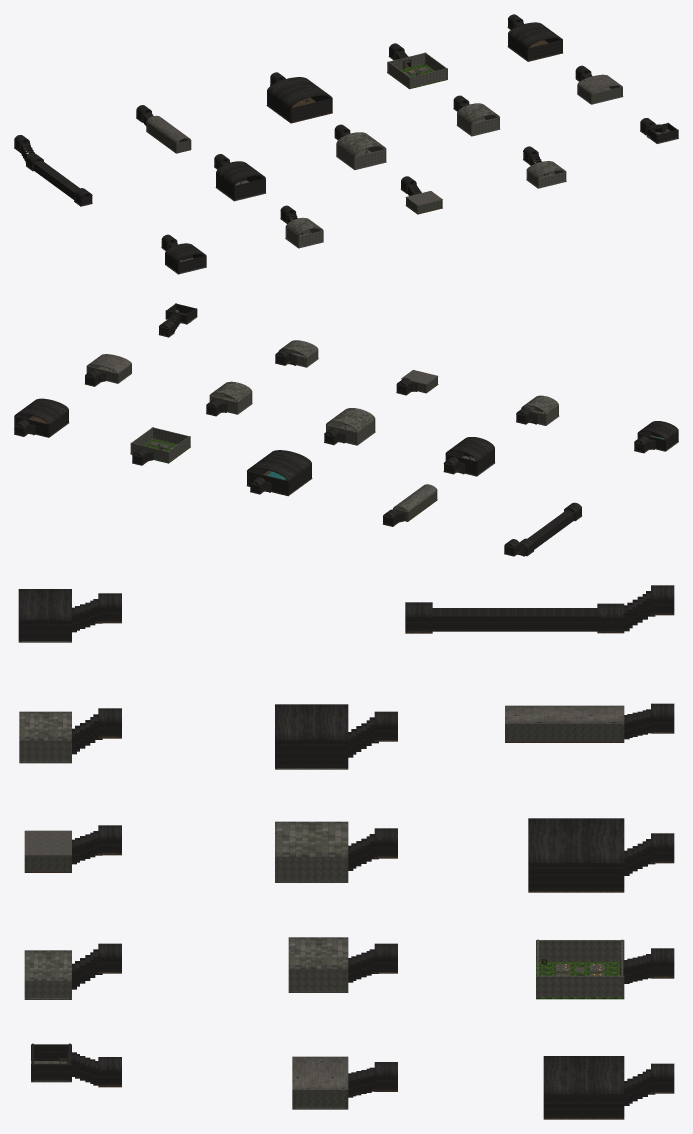
Rendered from world.glb.
3 renders of one model, top to bottom at view 1: azimuth 30°, elevation 25°; view 2: azimuth 150°, elevation 25°; view 3: azimuth 270°, elevation 25°, orthographic. The views are drawn at different scales.
Parts seen in each view (by area): view 1: Build_delta-paddy-garden_ashlar, Roof_delta-lotus-hollow_cliff_rock, Build_delta-lotus-hollow_cliff_rock, Build_delta-shrine-well_cliff_rock, Roof_delta-crab-pit_cliff_rock, Build_delta-crab-pit_cliff_rock, Build_delta-bund-run_cliff_rock, Roof_delta-bund-run_cliff_rock, Roof_delta-shrine-well_cliff_rock, Build_delta-waystone_ashlar, Roof_delta-waystone_ashlar, Build_delta-temple-spring_cliff_rock (+10 smaller); view 2: Build_delta-paddy-garden_ashlar, Roof_delta-lotus-hollow_cliff_rock, Build_delta-lotus-hollow_cliff_rock, Roof_delta-crab-pit_cliff_rock, Build_delta-shrine-well_cliff_rock, Build_delta-crab-pit_cliff_rock, Roof_delta-shrine-well_cliff_rock, Build_delta-bund-run_cliff_rock, Roof_delta-bund-run_cliff_rock, Roof_delta-waystone_ashlar, Build_delta-banyan-eyrie_cliff_rock, Build_delta-temple-spring_cliff_rock (+6 smaller); view 3: Roof_delta-lotus-hollow_cliff_rock, Build_delta-bund-run_cliff_rock, Build_delta-paddy-garden_ashlar, Build_delta-lotus-hollow_cliff_rock, Roof_delta-crab-pit_cliff_rock, Roof_delta-shrine-well_cliff_rock, Build_delta-shrine-well_cliff_rock, Roof_delta-bund-run_cliff_rock, Build_delta-crab-pit_cliff_rock, Roof_delta-waystone_ashlar, Build_delta-banyan-eyrie_cliff_rock, Roof_delta-temple-spring_cliff_rock (+22 smaller).
Boxes of the visible parts, <box> form: Build_delta-paddy-garden_ashlar: <box>387,52,447,88</box>; Roof_delta-lotus-hollow_cliff_rock: <box>267,72,332,108</box>; Build_delta-lotus-hollow_cliff_rock: <box>267,77,332,122</box>; Build_delta-shrine-well_cliff_rock: <box>214,159,265,200</box>; Roof_delta-crab-pit_cliff_rock: <box>508,14,562,48</box>; Build_delta-crab-pit_cliff_rock: <box>508,19,562,60</box>; Build_delta-bund-run_cliff_rock: <box>14,140,92,205</box>; Roof_delta-bund-run_cliff_rock: <box>14,135,92,198</box>; Roof_delta-shrine-well_cliff_rock: <box>214,154,265,186</box>; Build_delta-waystone_ashlar: <box>336,144,386,169</box>; Roof_delta-waystone_ashlar: <box>336,132,386,156</box>; Build_delta-temple-spring_cliff_rock: <box>161,239,206,273</box>; Build_delta-paddy-garden_ashlar: <box>130,427,190,462</box>; Roof_delta-lotus-hollow_cliff_rock: <box>247,450,311,486</box>; Build_delta-lotus-hollow_cliff_rock: <box>247,464,311,495</box>; Roof_delta-crab-pit_cliff_rock: <box>14,398,68,428</box>; Build_delta-shrine-well_cliff_rock: <box>444,449,494,475</box>; Build_delta-crab-pit_cliff_rock: <box>14,410,68,436</box>; Roof_delta-shrine-well_cliff_rock: <box>443,437,494,466</box>; Build_delta-bund-run_cliff_rock: <box>504,508,581,556</box>; Roof_delta-bund-run_cliff_rock: <box>504,502,581,548</box>; Roof_delta-waystone_ashlar: <box>326,408,375,432</box>; Build_delta-banyan-eyrie_cliff_rock: <box>159,303,197,336</box>; Build_delta-temple-spring_cliff_rock: <box>634,431,678,452</box>; Roof_delta-lotus-hollow_cliff_rock: <box>528,818,674,863</box>; Build_delta-bund-run_cliff_rock: <box>405,591,674,631</box>; Build_delta-paddy-garden_ashlar: <box>536,939,624,997</box>; Build_delta-lotus-hollow_cliff_rock: <box>528,839,674,891</box>; Roof_delta-crab-pit_cliff_rock: <box>543,1056,674,1093</box>; Roof_delta-shrine-well_cliff_rock: <box>275,704,397,741</box>; Build_delta-shrine-well_cliff_rock: <box>275,717,397,768</box>; Roof_delta-bund-run_cliff_rock: <box>405,585,674,617</box>; Build_delta-crab-pit_cliff_rock: <box>543,1069,674,1118</box>; Roof_delta-waystone_ashlar: <box>275,821,348,856</box>; Build_delta-banyan-eyrie_cliff_rock: <box>31,1043,121,1085</box>; Roof_delta-temple-spring_cliff_rock: <box>18,589,121,620</box>.
Bounding box in the file's own units: 309 × 13.65 × 171.
20 materials, 20 textured.
